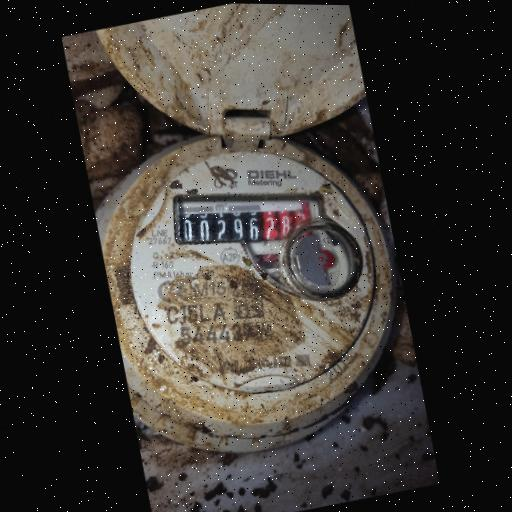0: (190, 209, 221, 245), (173, 210, 202, 247)
2: (209, 209, 237, 246), (287, 198, 315, 234), (256, 207, 282, 244)
6: (241, 208, 267, 245)
8: (273, 208, 298, 243)
9: (225, 209, 251, 244)
border_water_meter_number: (165, 170, 326, 272)
